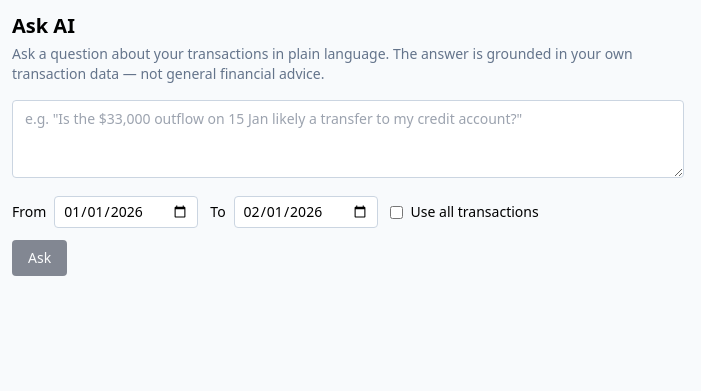
Test: AskAiPage › submits the question with the date range and shows the grounded answer
In the text box with test id "ask-ai-question-input": (348, 139) [12, 100, 684, 178], type "Is this a transfer?"
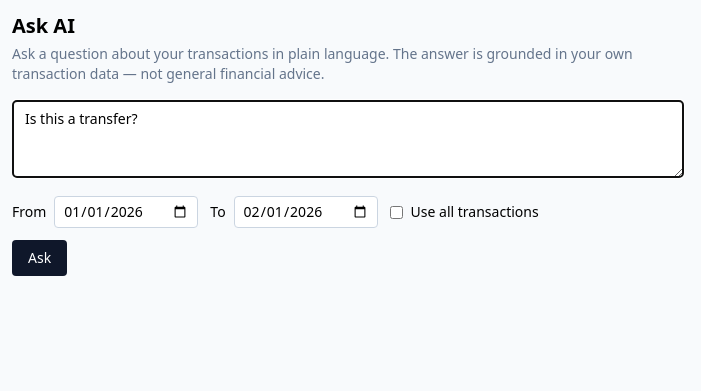
Click the button with test id "ask-ai-submit": (40, 258) [12, 240, 67, 276]
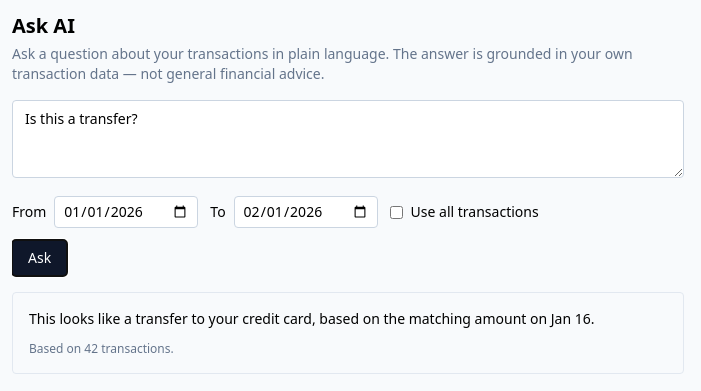
Expected: the element with test id "ask-ai-answer" shows "This looks like a transfer", [29, 309, 594, 328]
Expected: the element with test id "ask-ai-answer" shows "Based on 42 transactions", [12, 292, 684, 374]
